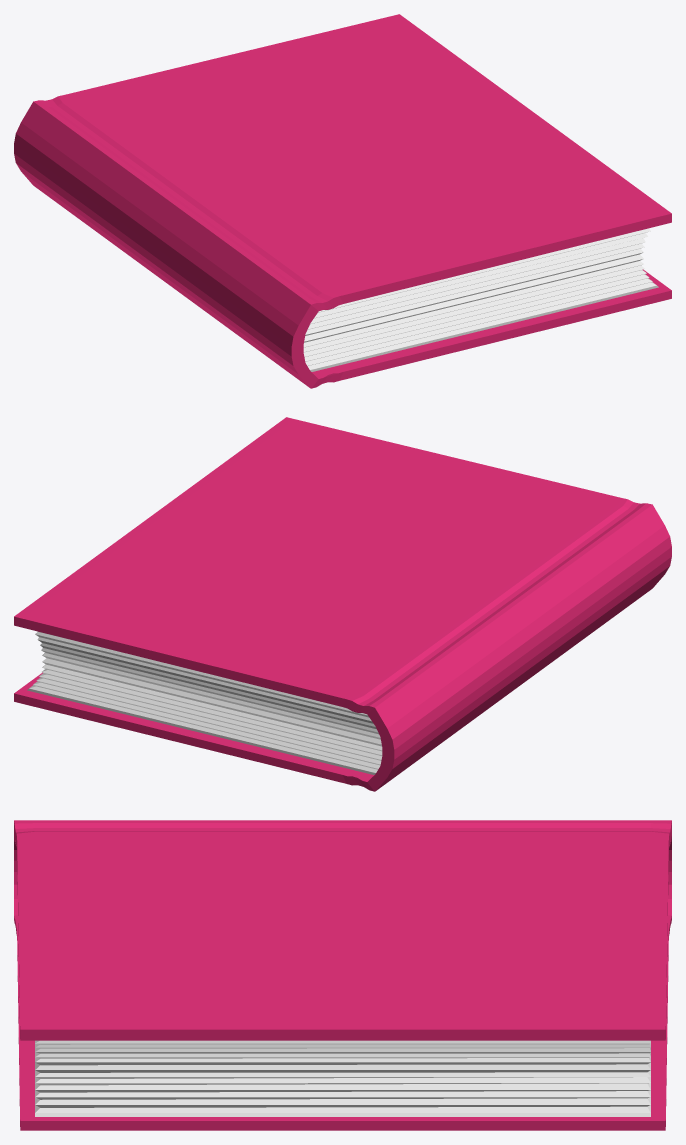
3 renders of one model, top to bottom at view 1: azimuth 30°, elevation 25°; view 2: azimuth 150°, elevation 25°; view 3: azimuth 270°, elevation 25°, orthographic. The views are drawn at different scales.
Visible parts, largest first — view 1: Cube, Cube.001; view 2: Cube, Cube.001; view 3: Cube, Cube.001.
Part boxes in pixels (bbox=[...]): Cube: bbox=[14, 14, 671, 388]; Cube.001: bbox=[303, 228, 658, 371]; Cube: bbox=[14, 417, 671, 791]; Cube.001: bbox=[27, 631, 382, 774]; Cube: bbox=[14, 820, 671, 1130]; Cube.001: bbox=[35, 1040, 650, 1116].
Bounding box in the file's own units: 1.7 × 0.3619 × 2.14.
